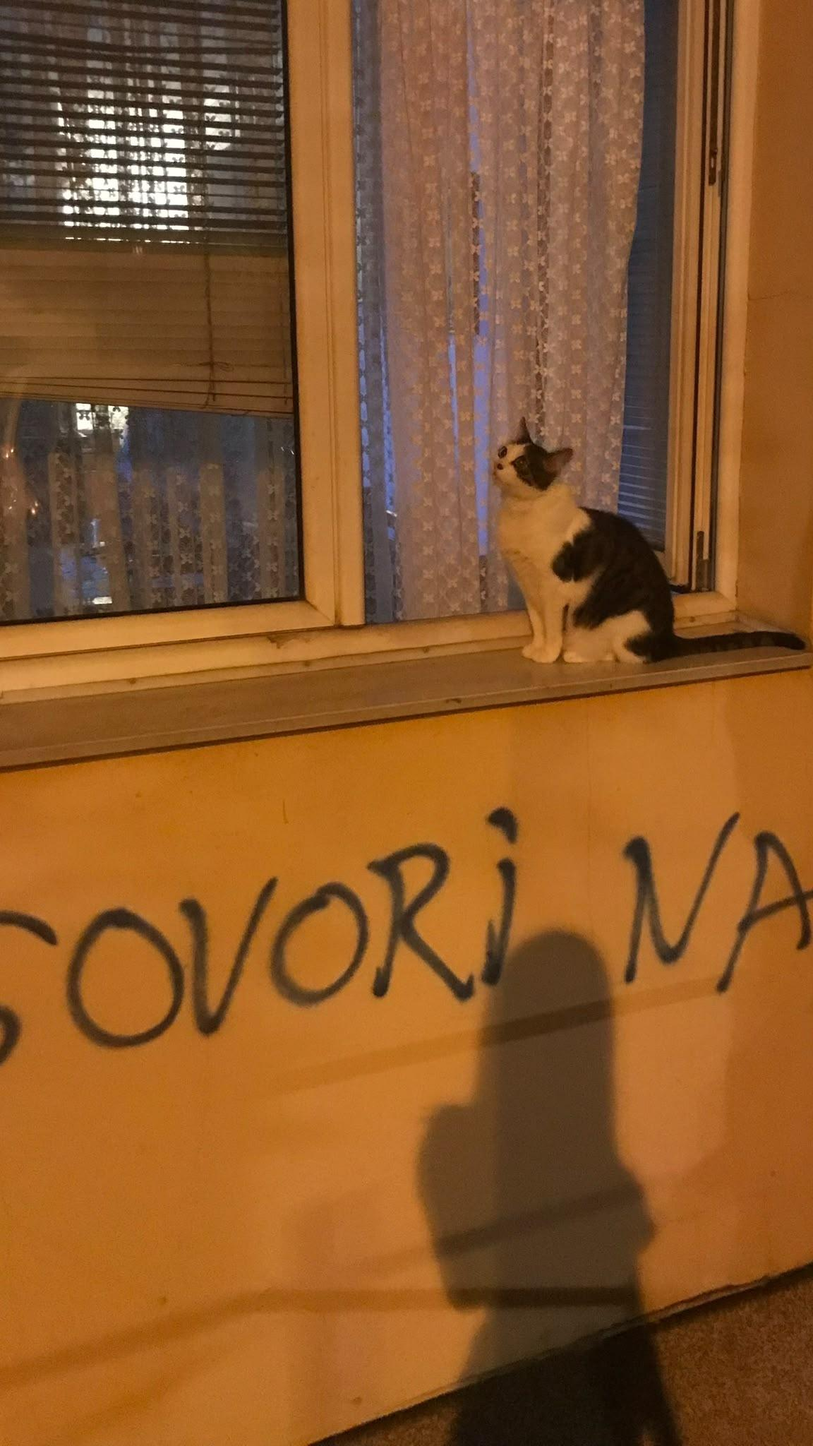macka: (492, 416, 810, 663)
